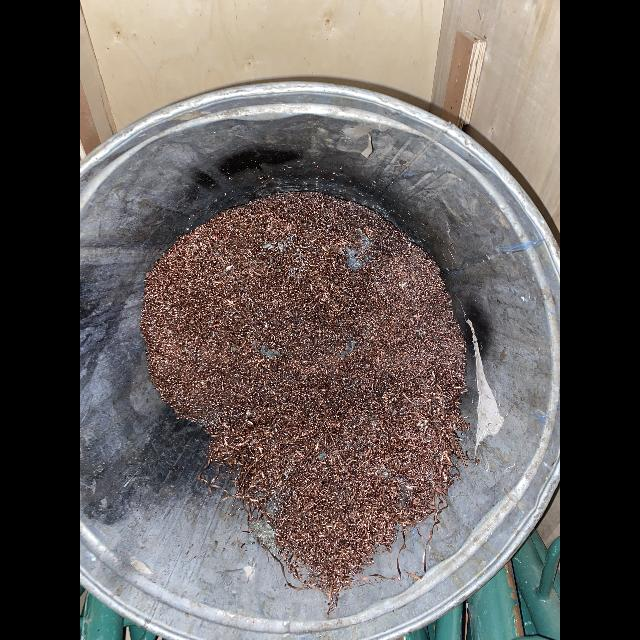Copper: (140, 191, 468, 611)
